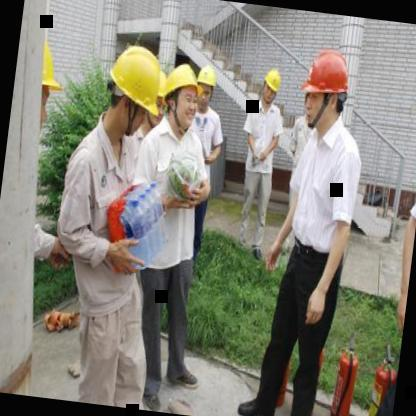helmet: (97, 38, 167, 136), (292, 42, 359, 140), (32, 26, 72, 156), (156, 58, 204, 133), (190, 60, 222, 116), (256, 67, 284, 106)
